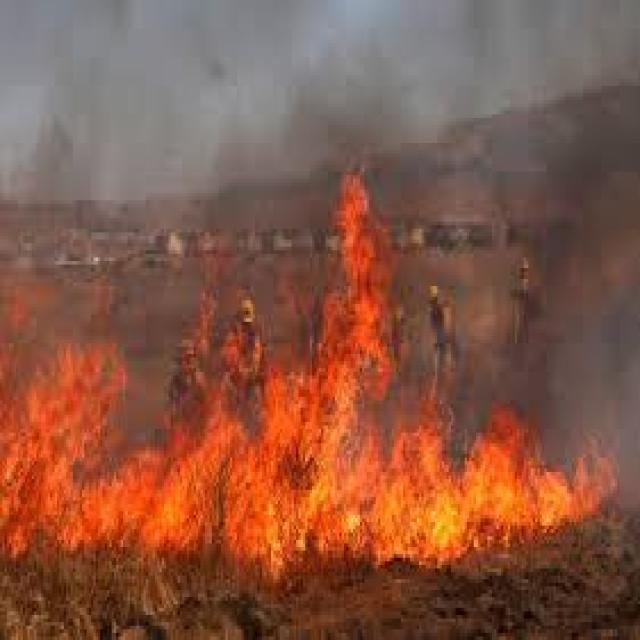Fire: (0, 175, 614, 563)
Smoke: (0, 0, 640, 501)
